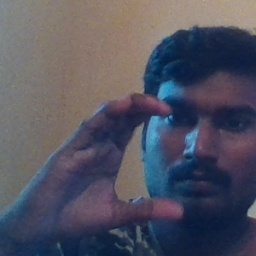C: (82, 79, 197, 230)
